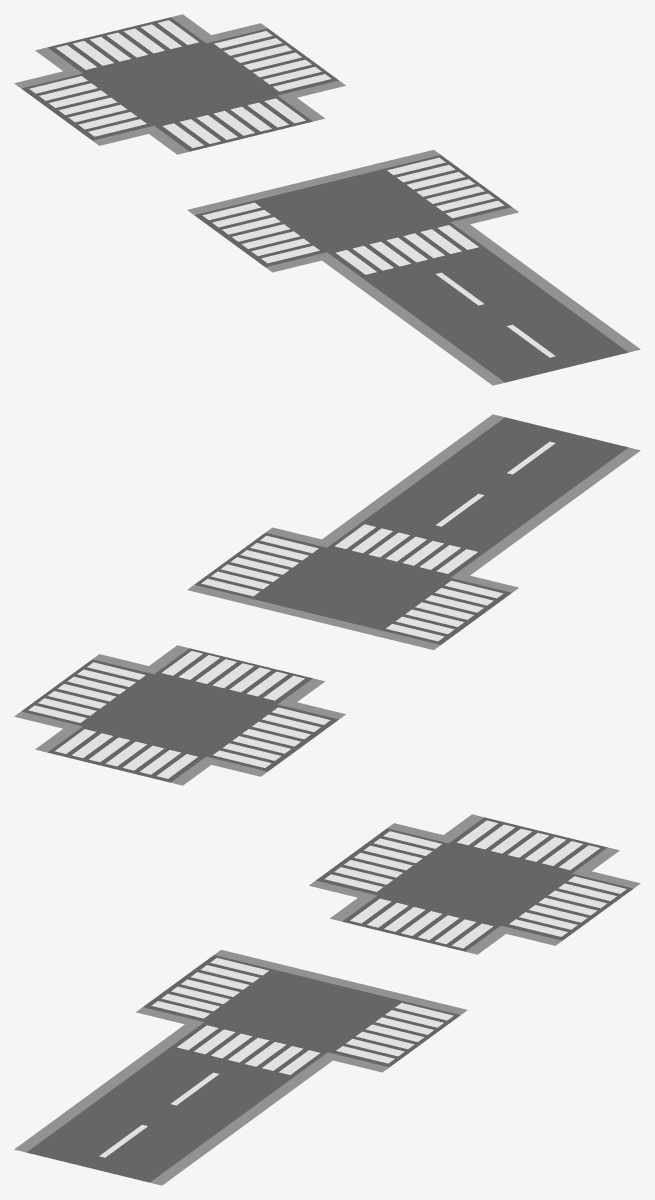
The model's file is Road_1.fbx.
3 views of the same model, one above another, from view 1: azimuth 30°, elevation 25°; view 2: azimuth 150°, elevation 25°; view 3: azimuth 330°, elevation 25° (orthographic).
Parts seen in each view (by area): view 1: road_tile_1x1_20.001, road_tile_1x1_20, road_tile_1x1_9.077; view 2: road_tile_1x1_20.001, road_tile_1x1_20, road_tile_1x1_9.077; view 3: road_tile_1x1_20.001, road_tile_1x1_20, road_tile_1x1_9.077.
Part boxes in pixels (<box>): road_tile_1x1_20.001: <box>14,14,345,154</box>; road_tile_1x1_20: <box>187,150,518,281</box>; road_tile_1x1_9.077: <box>351,245,640,385</box>; road_tile_1x1_20.001: <box>14,645,345,785</box>; road_tile_1x1_20: <box>187,518,518,649</box>; road_tile_1x1_9.077: <box>351,414,640,554</box>; road_tile_1x1_20.001: <box>309,814,640,954</box>; road_tile_1x1_20: <box>136,950,467,1081</box>; road_tile_1x1_9.077: <box>14,1045,303,1185</box>.
Bounding box in the file's own units: 400 × 0.5258 × 1286.
